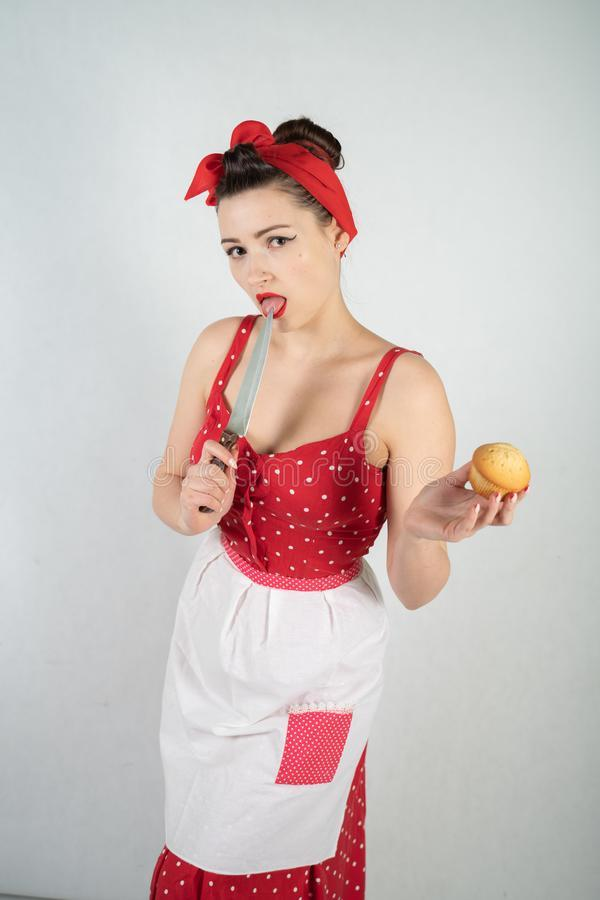criminal: (147, 112, 536, 900)
weapon: (191, 298, 280, 521)
